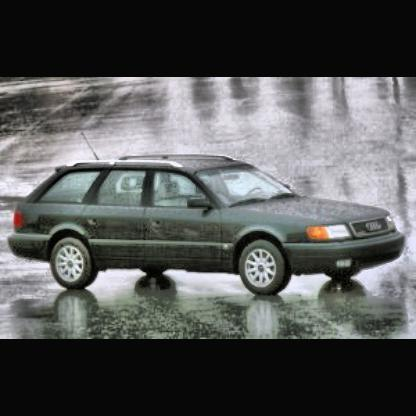Audi 100 Wagon 1994: (5, 149, 408, 301)
